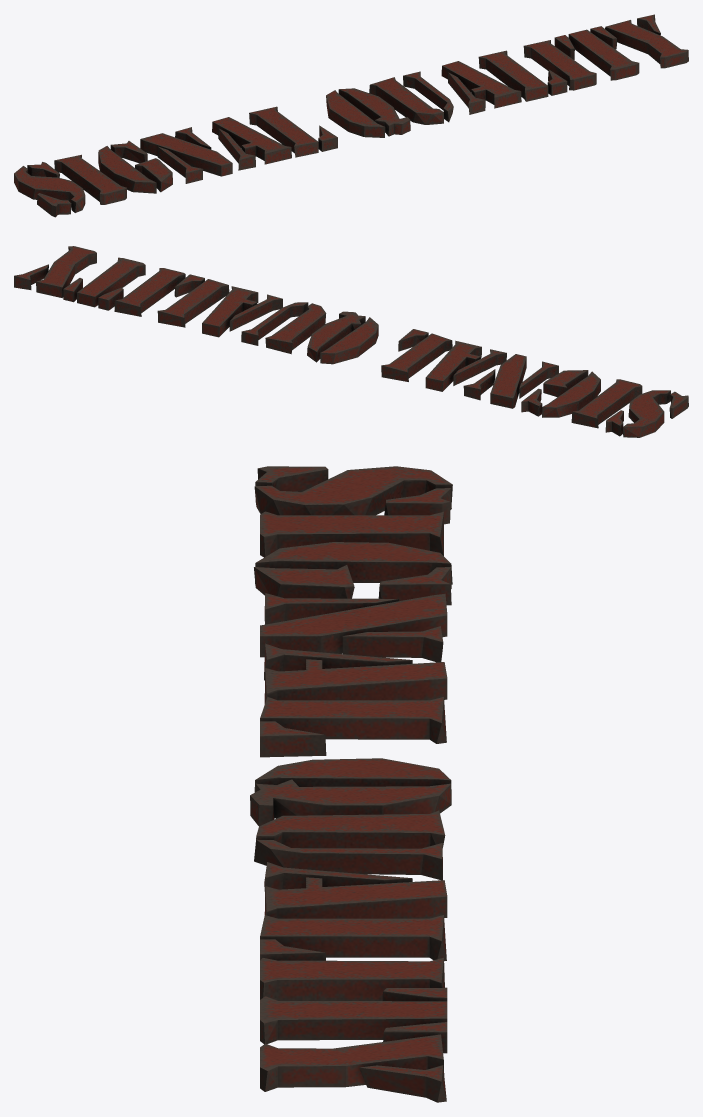
Rendered from Signal_Quality_Text.fbx.
3 views of the same model, one above another, from view 1: azimuth 30°, elevation 25°; view 2: azimuth 150°, elevation 25°; view 3: azimuth 270°, elevation 25° (orthographic). The views are drawn at different scales.
Parts seen in each view (by area): view 1: Signal_Quality_text; view 2: Signal_Quality_text; view 3: Signal_Quality_text.
Part boxes in pixels (x1,y1,x2,y2): Signal_Quality_text: (14,14,688,217); Signal_Quality_text: (14,246,688,437); Signal_Quality_text: (250,466,452,1102).
Size of the model in its own units: 437 by 7.05 by 60.85.
Materials: 1 (1 with a texture image).
